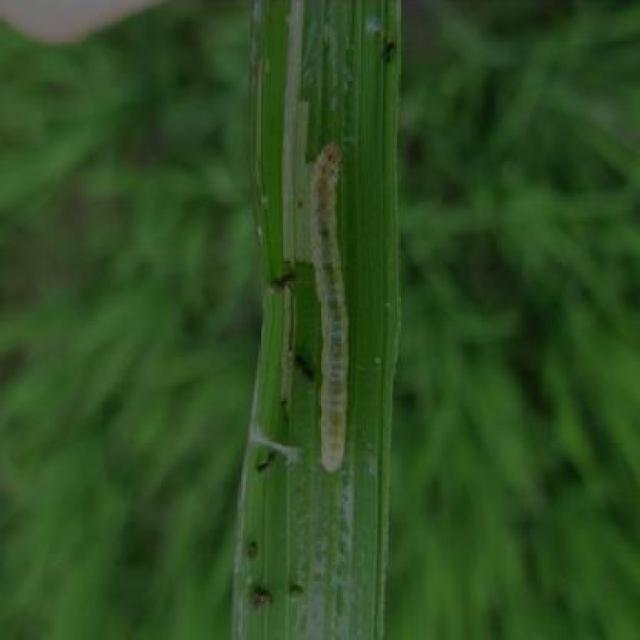leaf-folder: (289, 135, 368, 483)
